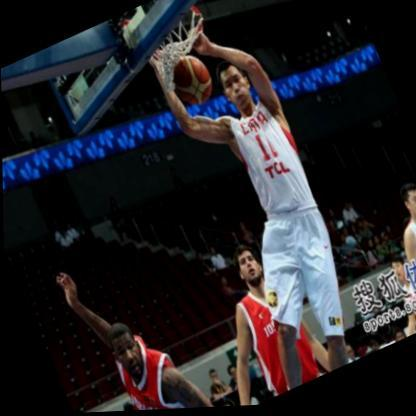basketball: (165, 50, 219, 113)
